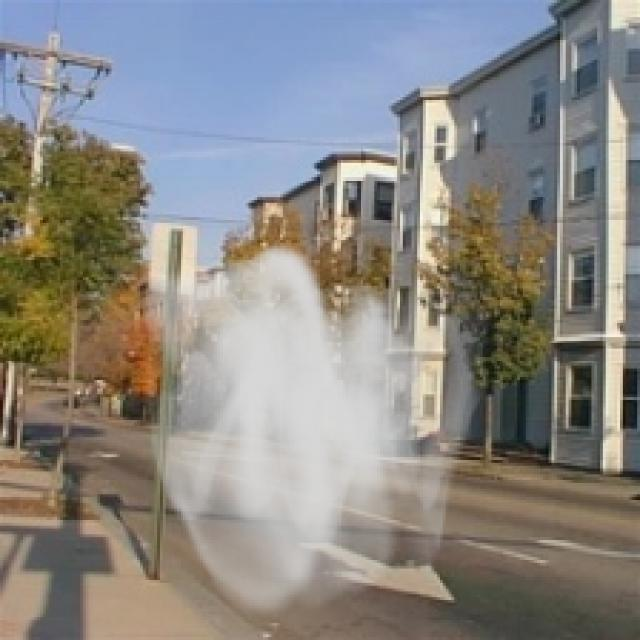smoke: (134, 240, 489, 629)
